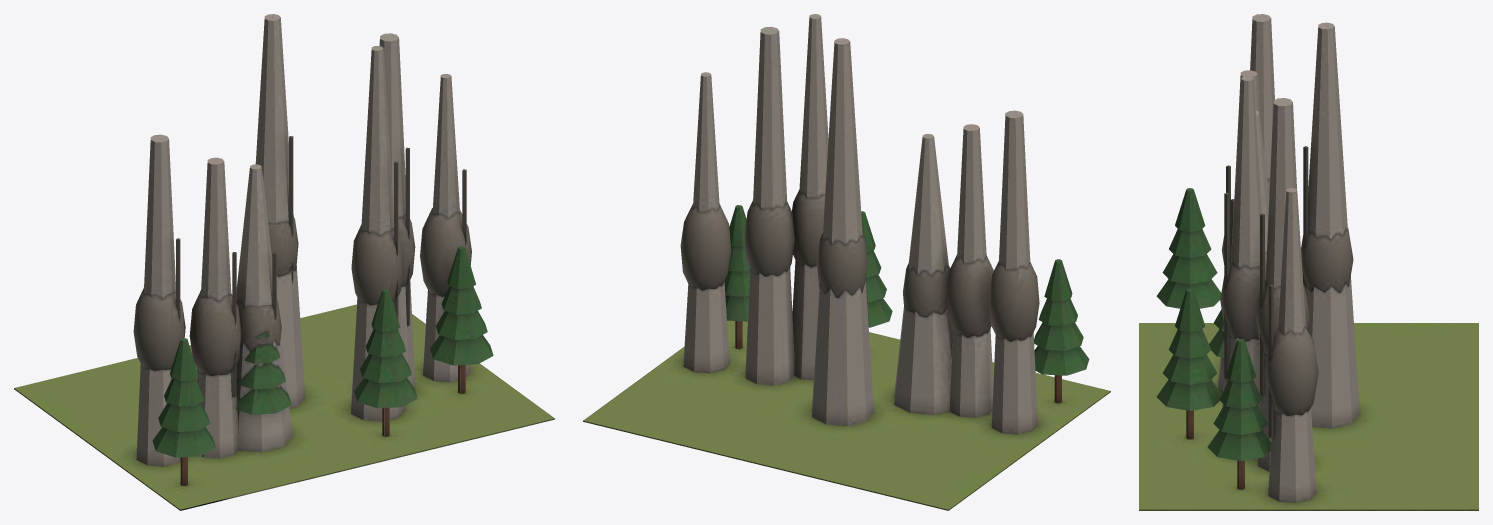
The model's file is agujas_granito.glb.
3 views of the same model, side by side, from view 1: azimuth 30°, elevation 25°; view 2: azimuth 150°, elevation 25°; view 3: azimuth 270°, elevation 25° (orthographic). The views are drawn at different scales.
Parts seen in each view (by area): view 1: agujas_granito; view 2: agujas_granito; view 3: agujas_granito.
Boxes of the visible parts, x1=… form: agujas_granito: x1=14, y1=14, x2=554, y2=510; agujas_granito: x1=583, y1=14, x2=1110, y2=510; agujas_granito: x1=1139, y1=14, x2=1478, y2=510.
Size of the model in its own units: 26 by 25.32 by 20.
1 material, 1 textured.
